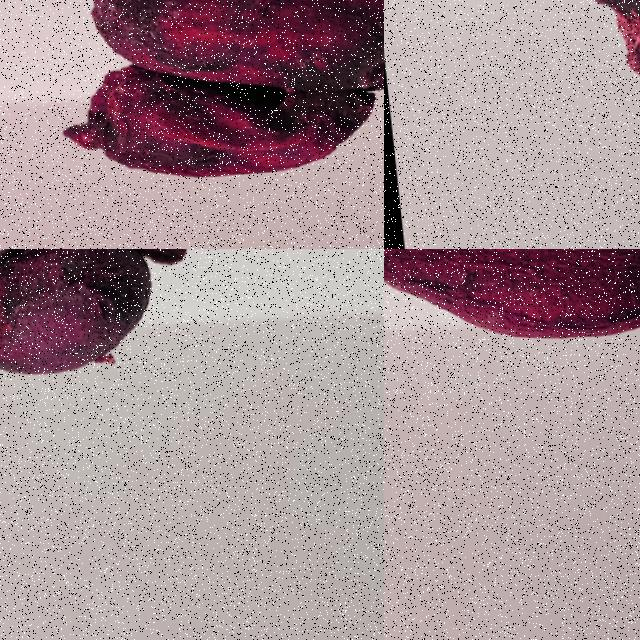Agglomerated_cocoabeans: (0, 0, 383, 222), (0, 249, 274, 401), (495, 0, 639, 146)
Fine_cocoabeans: (384, 249, 639, 374)
